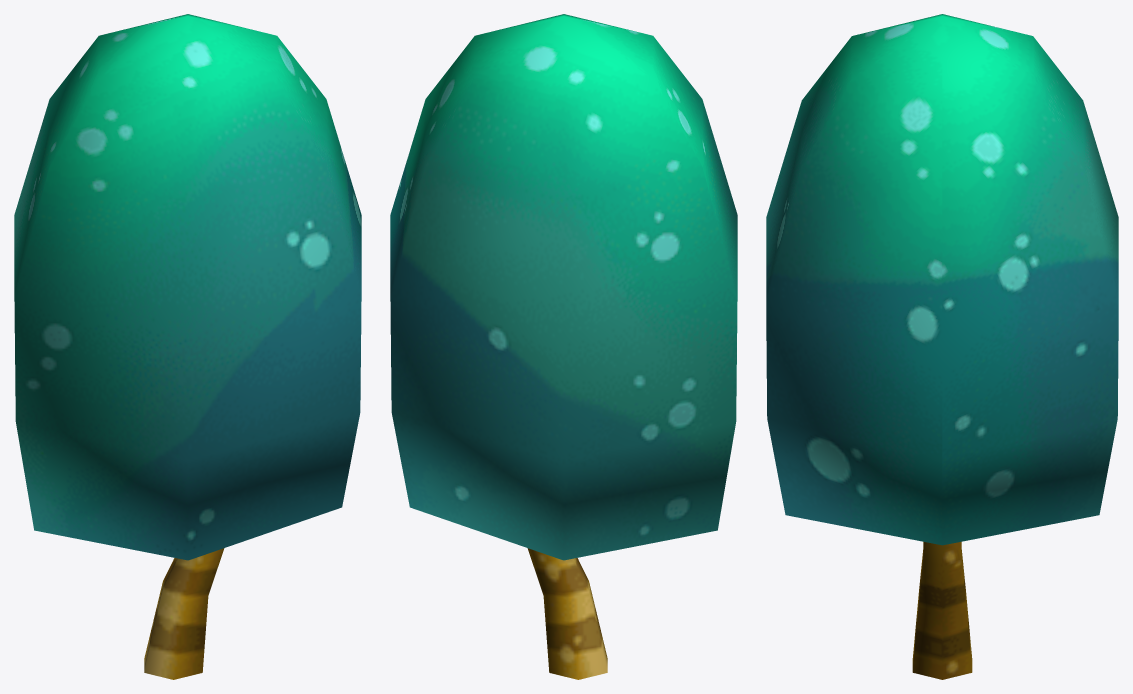
File: zw_shu1.fbx
The picture shows the model from 3 angles, left to right: view 1: azimuth 30°, elevation 25°; view 2: azimuth 150°, elevation 25°; view 3: azimuth 270°, elevation 25°; orthographic projection.
Visible parts, largest first — view 1: zw_shu1; view 2: zw_shu1; view 3: zw_shu1.
Part boxes in pixels (bbox=[...]): zw_shu1: bbox=[14, 14, 361, 679]; zw_shu1: bbox=[390, 14, 737, 679]; zw_shu1: bbox=[766, 14, 1118, 679].
Bounding box in the file's own units: 2592 × 4610 × 2245.
